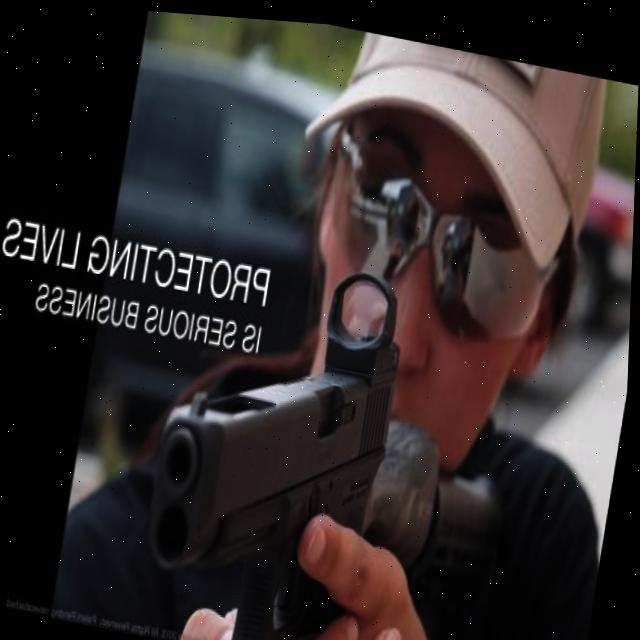pistol: (133, 232, 417, 640)
